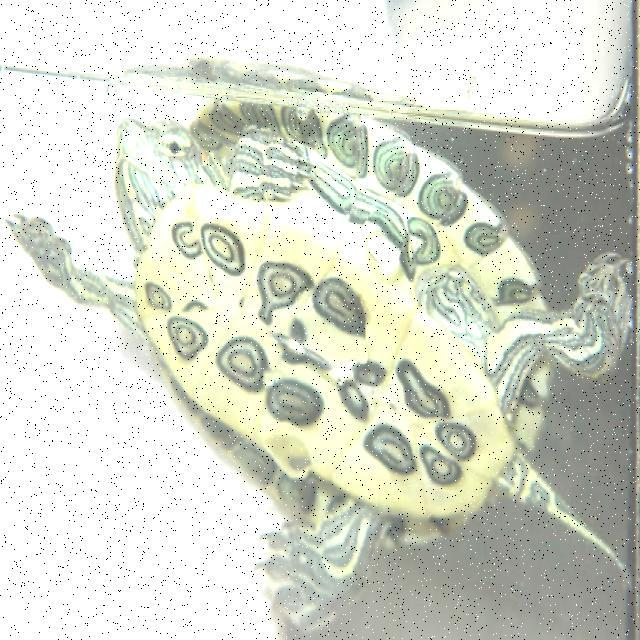tortoise: (0, 94, 624, 594)
